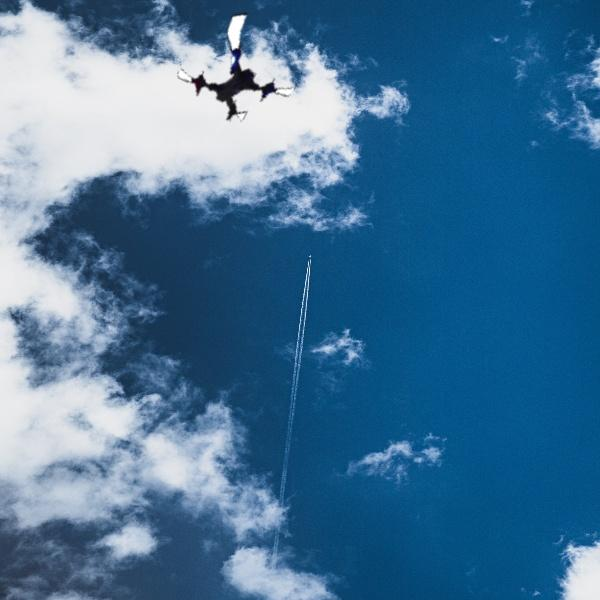drone: (182, 4, 308, 130)
